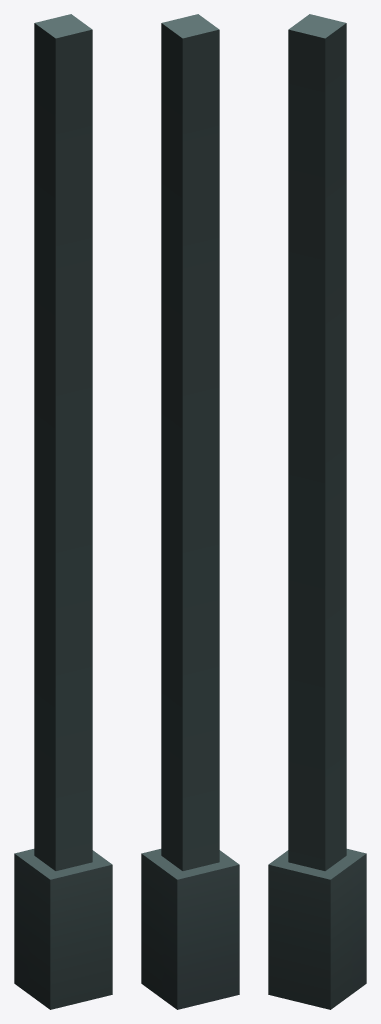
File: Metal_Pole_2A.fbx
3 views of the same model, side by side, from view 1: azimuth 30°, elevation 25°; view 2: azimuth 210°, elevation 25°; view 3: azimuth 330°, elevation 25° (orthographic).
Visible parts, largest first — view 1: Metal_Pole_2A; view 2: Metal_Pole_2A; view 3: Metal_Pole_2A.
Part boxes in pixels (bbox=[...]): Metal_Pole_2A: bbox=[14, 14, 112, 1009]; Metal_Pole_2A: bbox=[141, 14, 239, 1009]; Metal_Pole_2A: bbox=[268, 14, 366, 1009].
Size of the model in its own units: 23.67 by 350 by 23.67.
